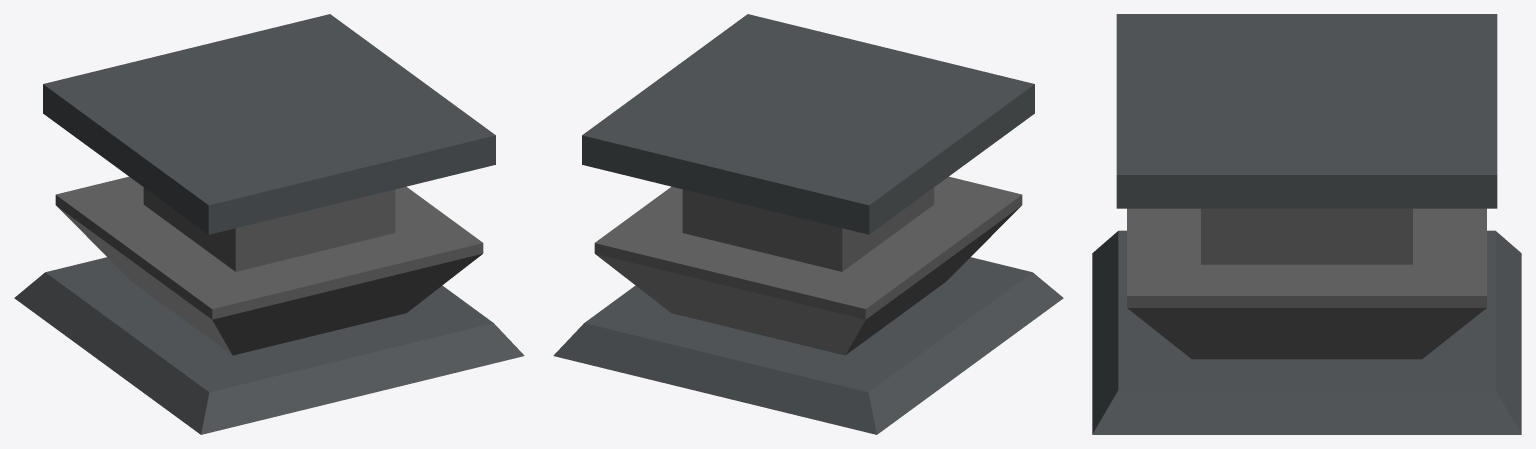
The model's file is Plinth.fbx.
3 renders of one model, left to right at view 1: azimuth 30°, elevation 25°; view 2: azimuth 150°, elevation 25°; view 3: azimuth 270°, elevation 25°, orthographic. The views are drawn at different scales.
Visible parts, largest first — view 1: Statue4; view 2: Statue4; view 3: Statue4.
Boxes of the visible parts, <box> form: Statue4: <box>14,14,524,434</box>; Statue4: <box>553,14,1063,434</box>; Statue4: <box>1092,14,1521,434</box>.
Size of the model in its own units: 1.63 by 1.04 by 1.63.
1 material, 1 textured.
